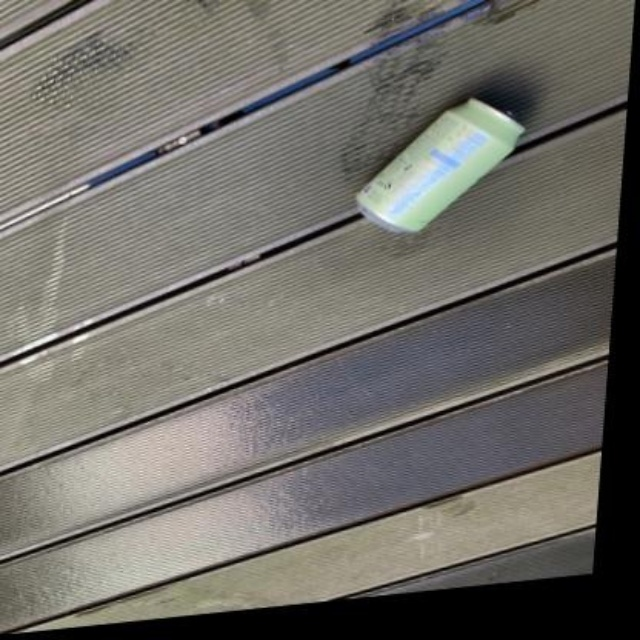trash: (357, 98, 523, 231)
